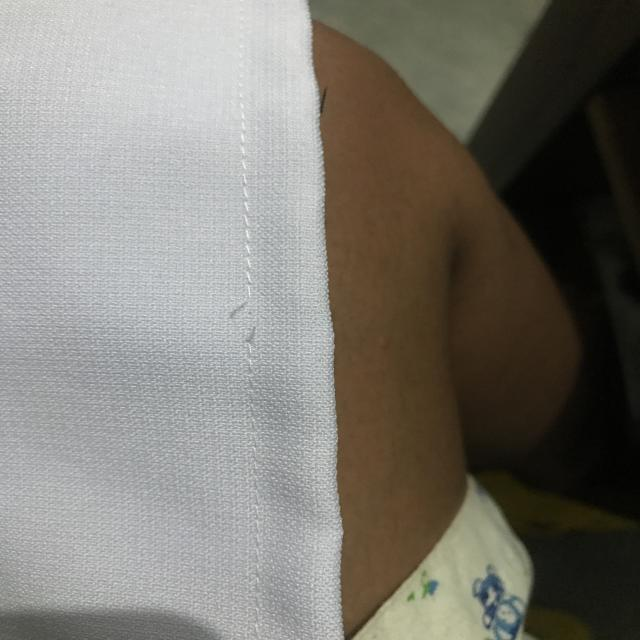broken: (222, 284, 278, 358)
good: (231, 158, 265, 257)
